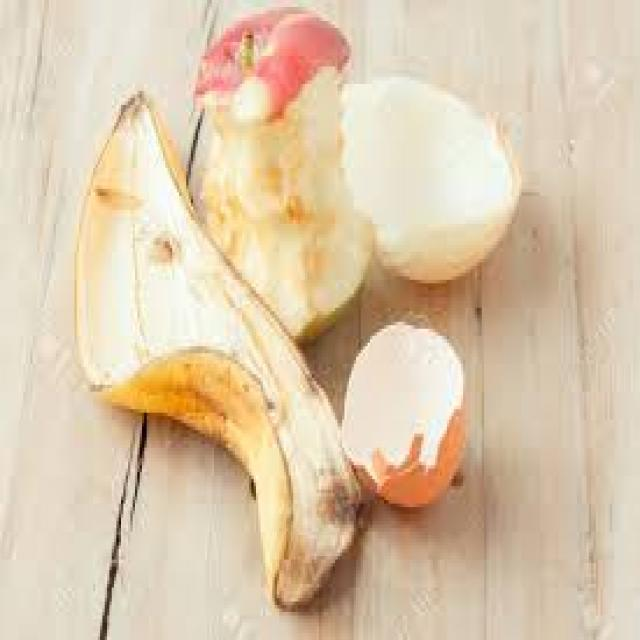organic waste: (70, 87, 361, 608), (191, 4, 370, 342), (340, 77, 519, 276), (337, 314, 461, 503)
